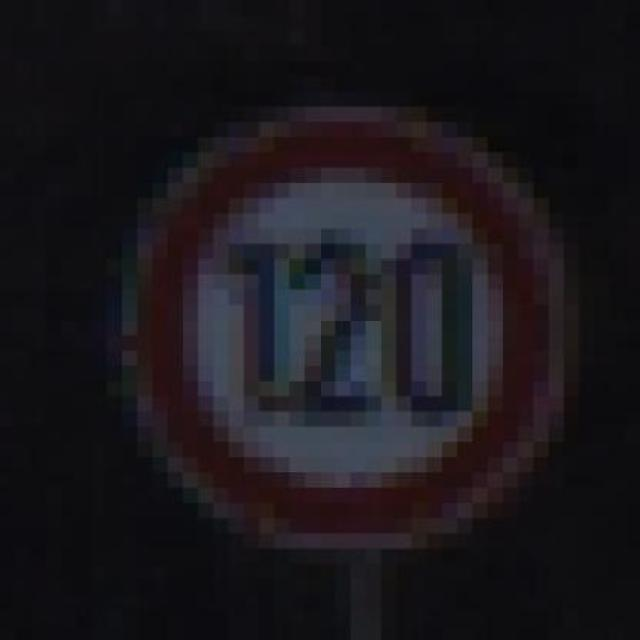forb_speed_over_120: (142, 122, 553, 535)
